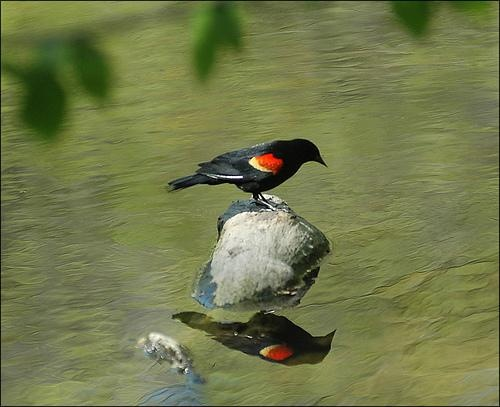bird: (166, 137, 328, 210)
